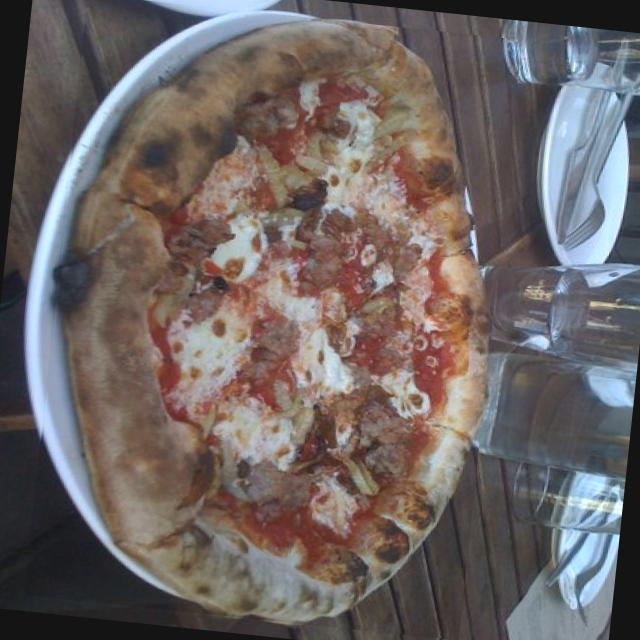pizza: (56, 18, 482, 622)
